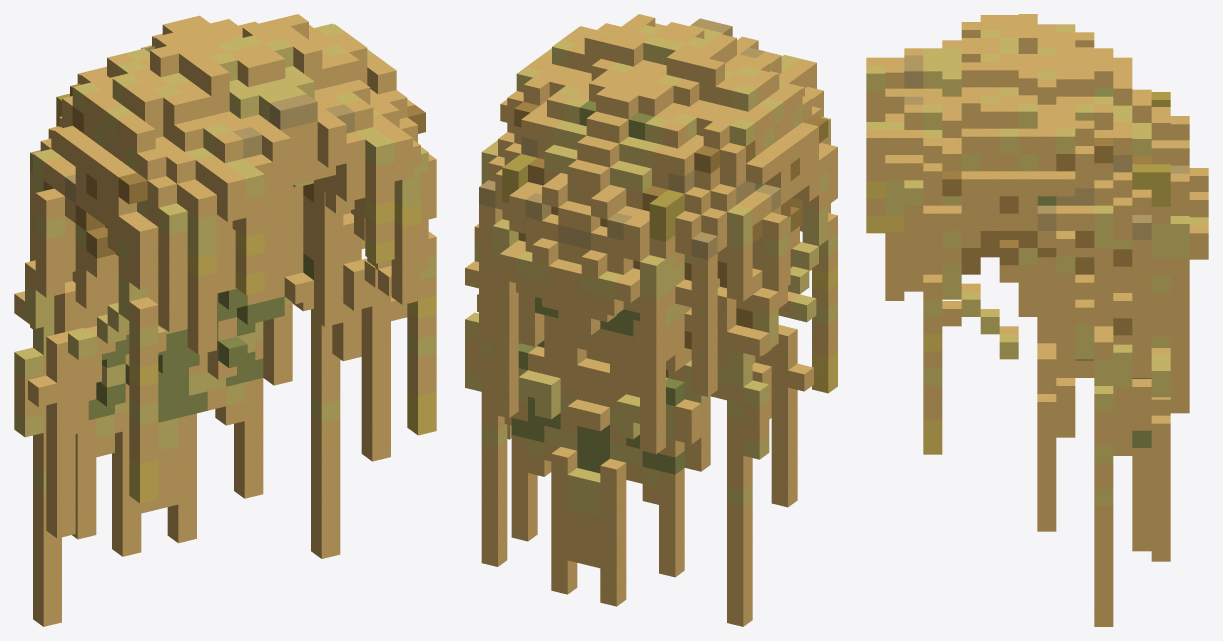
The model's file is senshi_female_hair.glb.
3 renders of one model, left to right at view 1: azimuth 30°, elevation 25°; view 2: azimuth 150°, elevation 25°; view 3: azimuth 270°, elevation 25°, orthographic. The views are drawn at different scales.
Visible parts, largest first — view 1: Helmet; view 2: Helmet; view 3: Helmet.
Part boxes in pixels (bbox=[...]): Helmet: bbox=[14, 14, 436, 626]; Helmet: bbox=[465, 14, 837, 626]; Helmet: bbox=[866, 14, 1208, 626].
Size of the model in its own units: 0.86 by 1.29 by 0.774.
1 material, 1 textured.
